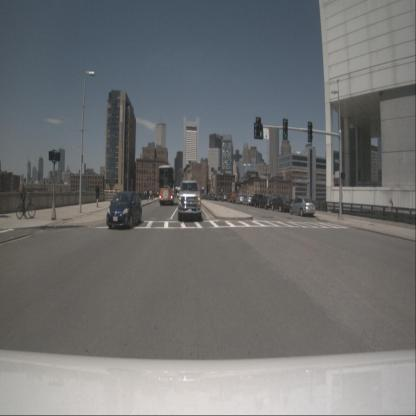human-pedestrian-adult: (96, 181, 100, 208), (144, 189, 147, 200), (147, 190, 149, 201), (150, 190, 152, 200)
vehicle-bicycle: (15, 176, 36, 222)
vehicle-bus-rigid: (158, 165, 175, 205)
vehicle-car: (106, 191, 142, 229), (178, 180, 201, 222), (289, 196, 315, 216), (271, 196, 291, 212), (258, 196, 274, 209), (251, 194, 263, 208), (242, 194, 254, 206), (235, 194, 245, 204), (226, 193, 234, 203), (221, 193, 228, 202), (216, 194, 223, 201)
vehicle-truck: (229, 191, 239, 203)
